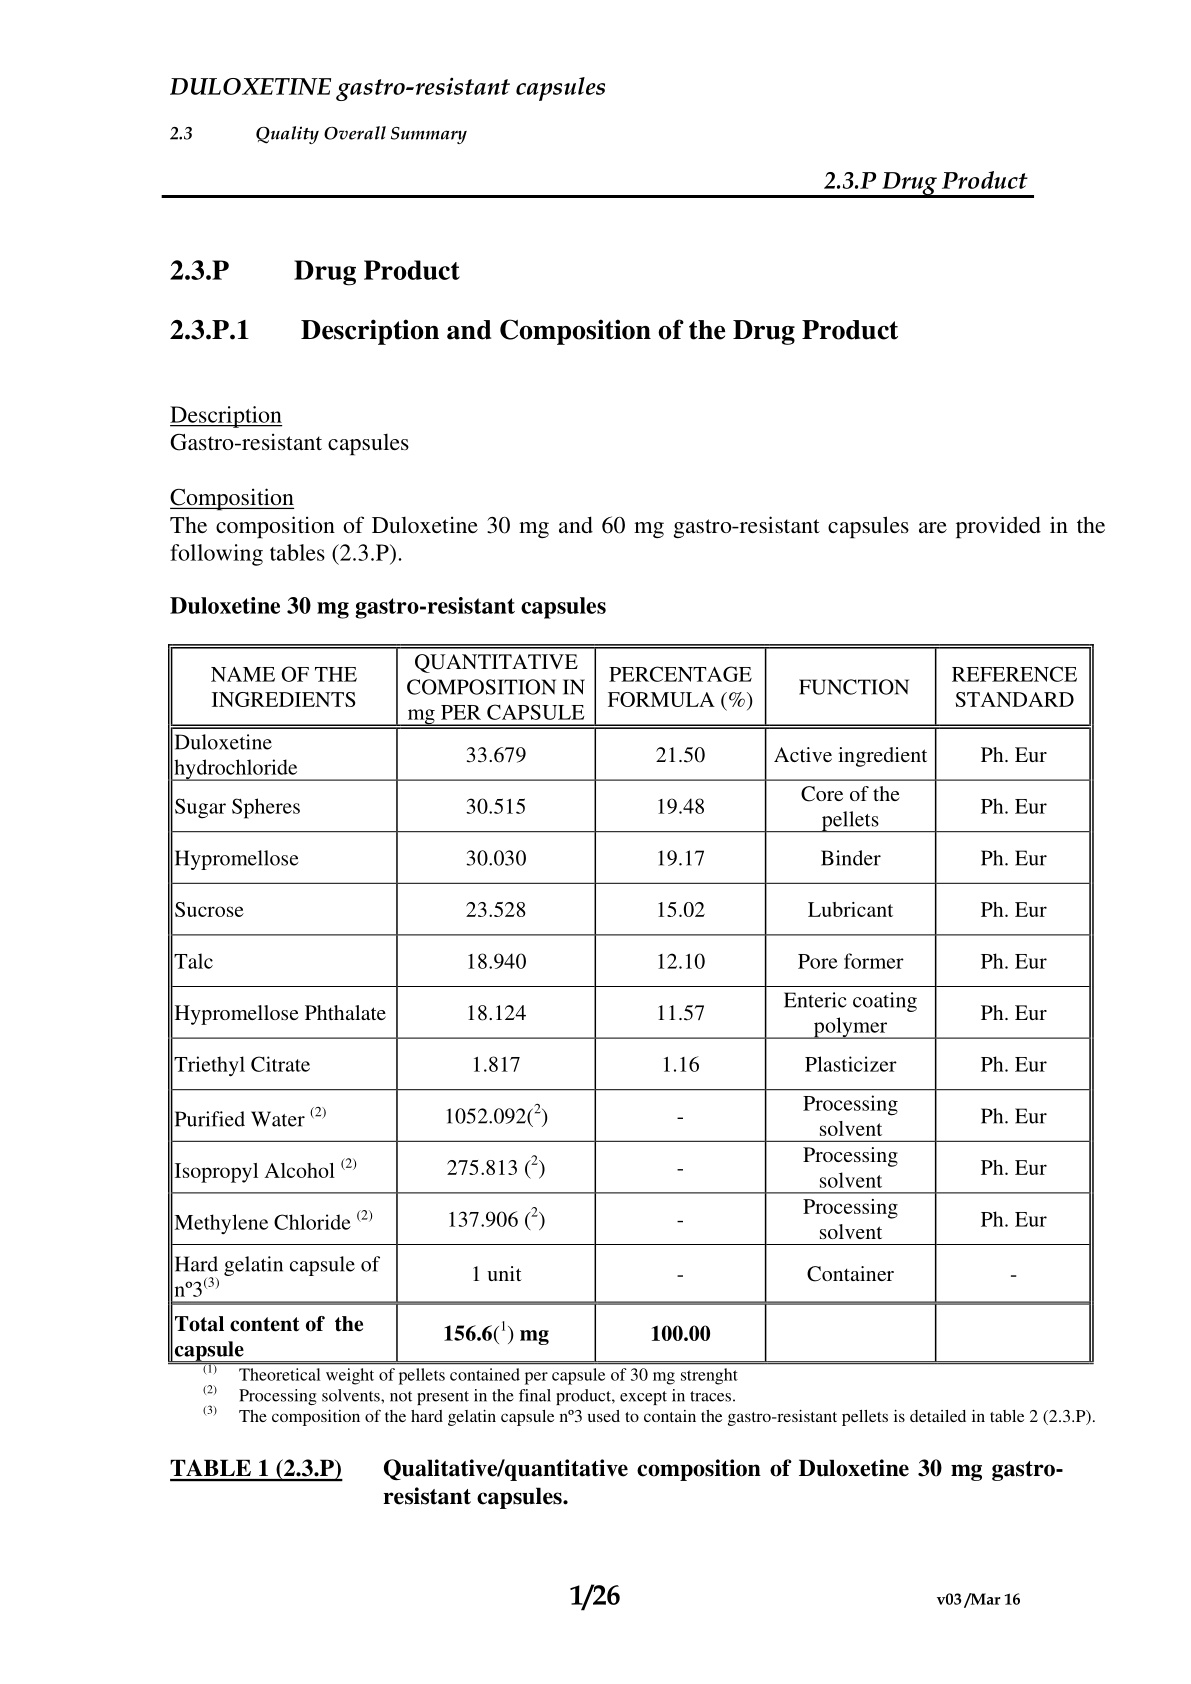full_lined: (168, 643, 1094, 1364)
